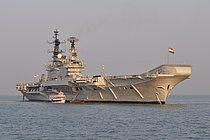MIL_Ship: (16, 23, 193, 105)
